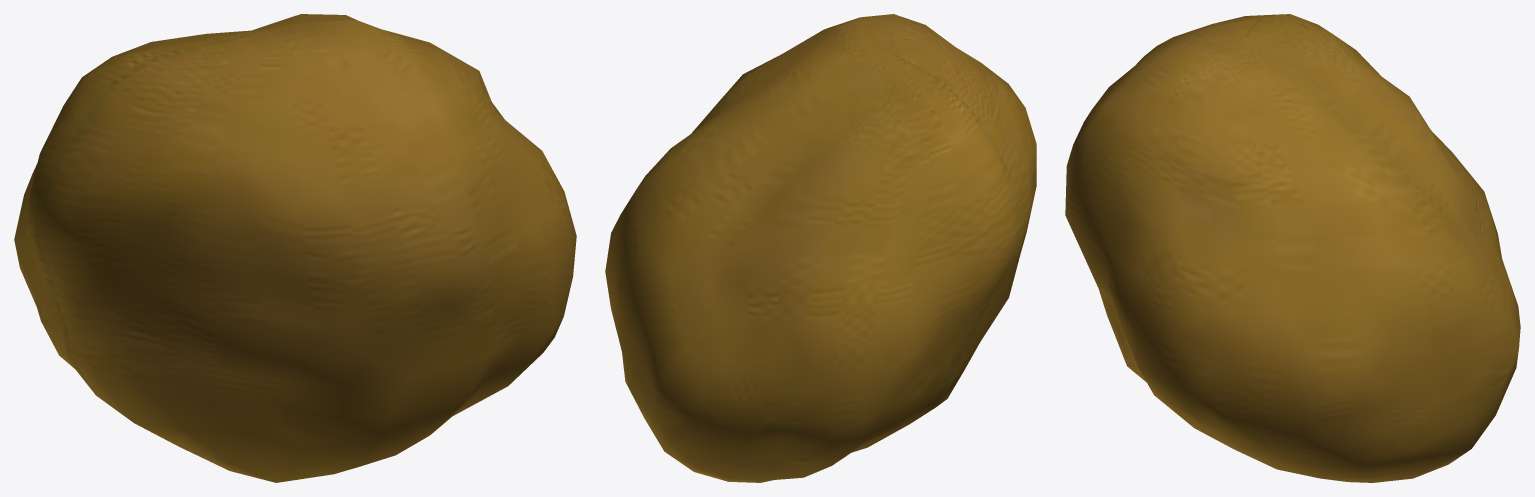
Rendered from meteor02.obj.
The picture shows the model from 3 angles, left to right: view 1: azimuth 30°, elevation 25°; view 2: azimuth 150°, elevation 25°; view 3: azimuth 270°, elevation 25°; orthographic projection. The views are drawn at different scales.
Parts seen in each view (by area): view 1: Meteor_メッシュ; view 2: Meteor_メッシュ; view 3: Meteor_メッシュ.
Boxes of the visible parts, box(x1,y1,x2,y2) form: Meteor_メッシュ: box(14, 14, 576, 482); Meteor_メッシュ: box(605, 14, 1036, 482); Meteor_メッシュ: box(1065, 14, 1520, 482).
Size of the model in its own units: 2.66 by 2.58 by 2.62.
1 material, 1 textured.
